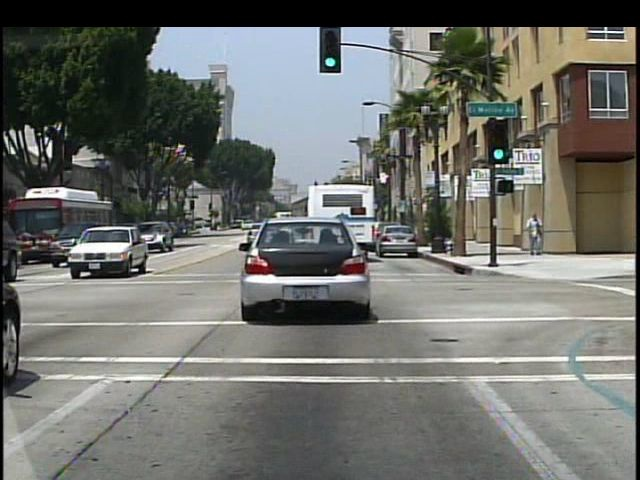person: (524, 213, 545, 257)
